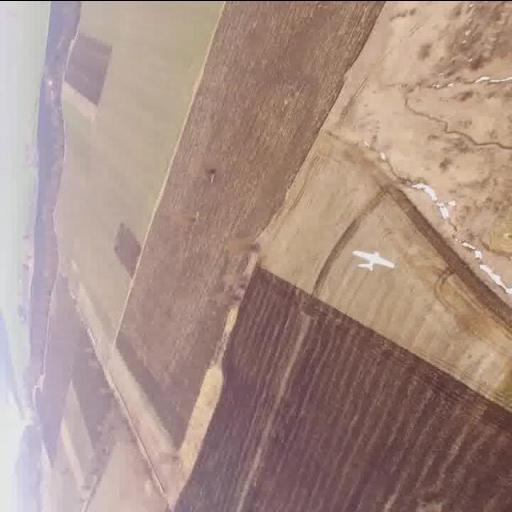uav: (344, 242, 406, 276)
